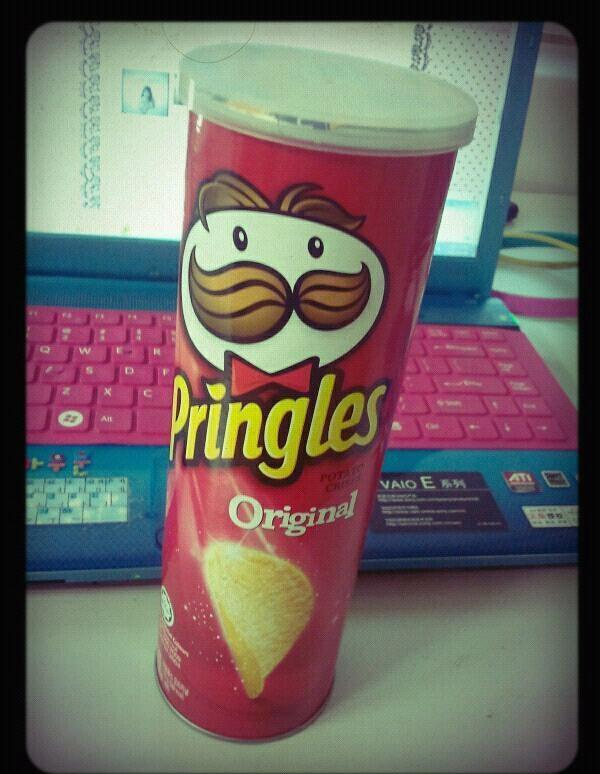pringles: (144, 174, 408, 481)
